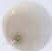Balloon: (3, 3, 52, 51)
